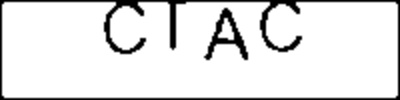A: (202, 5, 251, 65)
C: (102, 1, 149, 62), (258, 1, 306, 56)
T: (151, 1, 194, 53)
